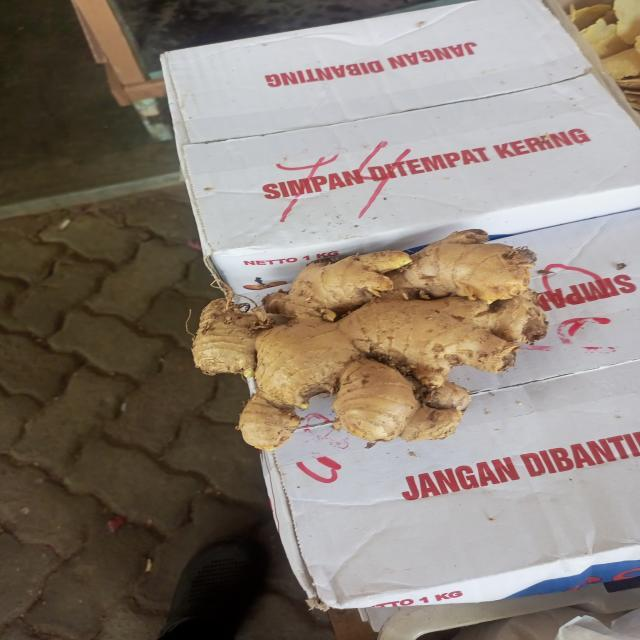ginger: (196, 233, 535, 432)
